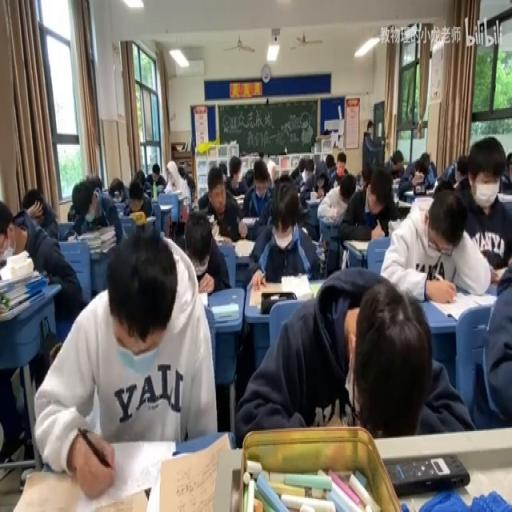calculator: (248, 273, 315, 310), (426, 286, 495, 320), (0, 292, 42, 320), (0, 266, 38, 291), (210, 300, 238, 322), (232, 236, 254, 256), (3, 248, 30, 263), (87, 244, 113, 258), (346, 239, 370, 252), (386, 218, 402, 234), (214, 233, 234, 245), (309, 280, 324, 296), (110, 200, 126, 214), (197, 288, 207, 306), (210, 219, 219, 238), (315, 242, 326, 257), (241, 216, 257, 225), (234, 193, 246, 205), (306, 196, 322, 205), (497, 192, 511, 202), (404, 188, 414, 202), (65, 230, 77, 239), (392, 176, 402, 186), (424, 186, 434, 196), (155, 184, 165, 194), (144, 216, 156, 223), (158, 204, 172, 210), (206, 213, 214, 222)
paper: (32, 225, 211, 496), (234, 266, 470, 444), (379, 184, 491, 298), (247, 182, 322, 289), (469, 255, 510, 428), (338, 164, 398, 256), (180, 209, 230, 296), (69, 175, 123, 253), (20, 188, 58, 240), (396, 150, 435, 200), (123, 178, 152, 219), (295, 155, 318, 196), (225, 155, 246, 196), (178, 165, 194, 206), (146, 161, 166, 189), (322, 152, 338, 186), (499, 155, 512, 192), (388, 148, 404, 178), (338, 173, 354, 202), (177, 200, 189, 238), (108, 176, 126, 200), (87, 175, 104, 199), (359, 160, 372, 190), (434, 176, 455, 194), (454, 155, 468, 179), (274, 171, 293, 186), (134, 168, 146, 189), (243, 168, 254, 189), (364, 119, 373, 141), (416, 168, 427, 183), (217, 161, 226, 179), (290, 165, 299, 183), (66, 205, 75, 222), (336, 162, 346, 171)
person: (386, 452, 470, 494)
